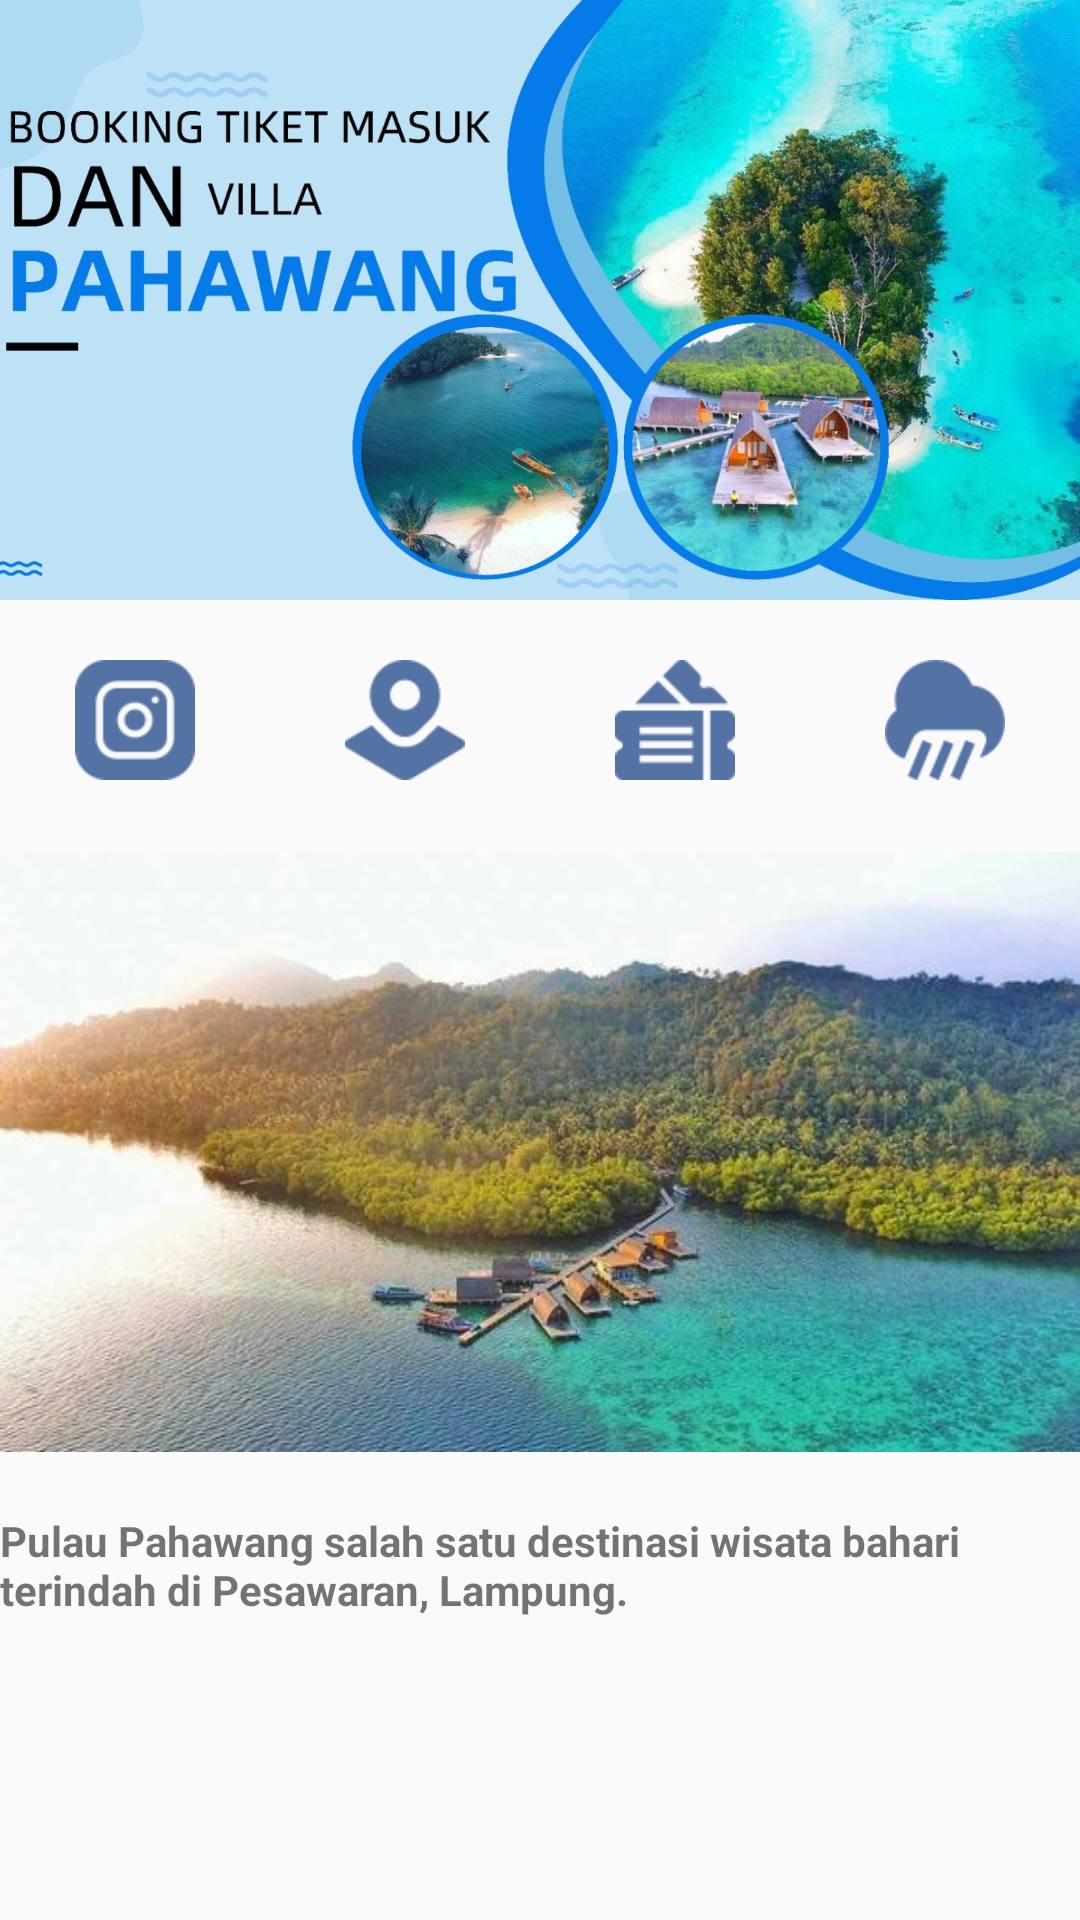

Screen size 1080×1920. Icon name, then its box in pixels as bbox=(x1, y1, x2, y2):
cuaca: bbox=(885, 660, 1005, 780)
mapp: bbox=(345, 660, 465, 780)
